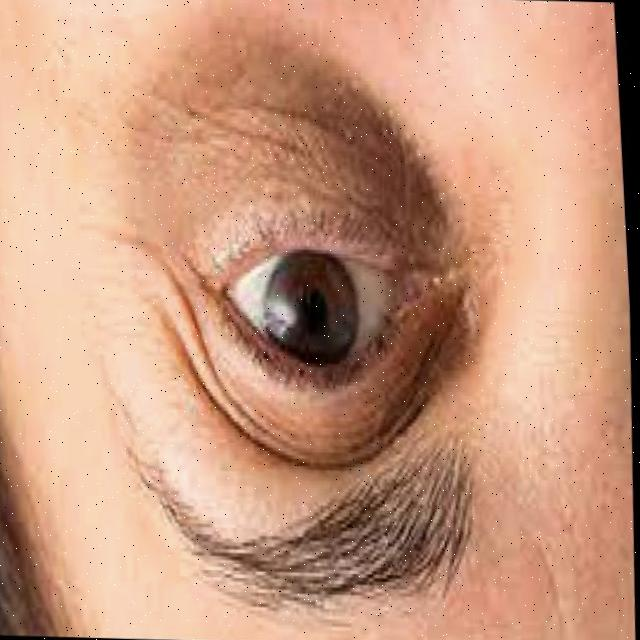puffy_eyes: (174, 74, 465, 256)
